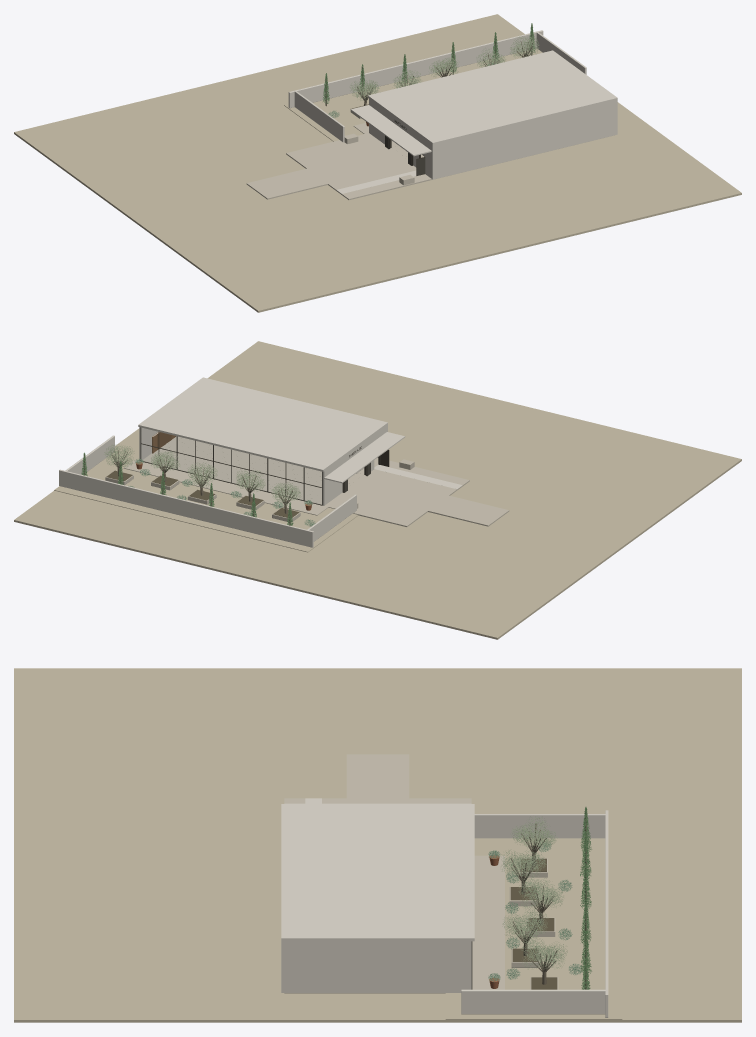
File: pavilion.glb
3 views of the same model, one above another, from view 1: azimuth 30°, elevation 25°; view 2: azimuth 150°, elevation 25°; view 3: azimuth 270°, elevation 25° (orthographic). The views are drawn at different scales.
Parts seen in each view (by area): view 1: SITE_GROUND, ROOM_CEILING, NORTH_SOLID_WALL, FORECOURT_14x18, SPANISH_LIME_BOUNDARY, EXTERIOR_GROUND, ROAD_CONNECTION, ENTRANCE_CANOPY, GARDEN_WEST_BOUNDARY, GARDEN_EAST_BOUNDARY; view 2: SITE_GROUND, ROOM_CEILING, ROOM_FLOOR_30x18, EXTERIOR_GROUND, FORECOURT_14x18, SPANISH_LIME_BOUNDARY, TERRACE, ROAD_CONNECTION, ENTRANCE_CANOPY, GARDEN_WEST_BOUNDARY, GARDEN_EAST_BOUNDARY, WEST_WALL.002 (+2 smaller); view 3: SITE_GROUND, ROOM_CEILING, EXTERIOR_GROUND, EAST_SOLID_WALL, TERRACE, GARDEN_EAST_BOUNDARY, GARDEN_WEST_BOUNDARY, ROAD_CONNECTION, FORECOURT_14x18, OLIVE_CROWN_3, OLIVE_CROWN_2, OLIVE_CROWN_1 (+3 smaller).
Boxes of the visible parts, bbox=[...] form: SITE_GROUND: bbox=[14, 14, 741, 312]; ROOM_CEILING: bbox=[368, 50, 617, 144]; NORTH_SOLID_WALL: bbox=[431, 100, 617, 179]; FORECOURT_14x18: bbox=[286, 133, 432, 199]; SPANISH_LIME_BOUNDARY: bbox=[288, 30, 543, 108]; EXTERIOR_GROUND: bbox=[284, 48, 542, 141]; ROAD_CONNECTION: bbox=[246, 168, 327, 199]; ENTRANCE_CANOPY: bbox=[350, 105, 431, 156]; GARDEN_WEST_BOUNDARY: bbox=[294, 91, 344, 142]; GARDEN_EAST_BOUNDARY: bbox=[536, 32, 586, 74]; SITE_GROUND: bbox=[14, 341, 741, 639]; ROOM_CEILING: bbox=[138, 377, 387, 471]; ROOM_FLOOR_30x18: bbox=[142, 436, 378, 504]; EXTERIOR_GROUND: bbox=[54, 447, 358, 552]; FORECOURT_14x18: bbox=[324, 460, 469, 526]; SPANISH_LIME_BOUNDARY: bbox=[59, 469, 313, 547]; TERRACE: bbox=[123, 460, 328, 515]; ROAD_CONNECTION: bbox=[428, 495, 509, 526]; ENTRANCE_CANOPY: bbox=[324, 432, 405, 483]; GARDEN_WEST_BOUNDARY: bbox=[307, 494, 356, 541]; GARDEN_EAST_BOUNDARY: bbox=[65, 435, 114, 474]; WEST_WALL.002: bbox=[322, 456, 344, 505]; SITE_GROUND: bbox=[14, 668, 741, 1022]; ROOM_CEILING: bbox=[281, 804, 474, 941]; EXTERIOR_GROUND: bbox=[445, 834, 622, 1021]; EAST_SOLID_WALL: bbox=[284, 941, 471, 992]; TERRACE: bbox=[472, 855, 504, 989]; GARDEN_EAST_BOUNDARY: bbox=[461, 989, 605, 1014]; GARDEN_WEST_BOUNDARY: bbox=[474, 814, 605, 838]; ROAD_CONNECTION: bbox=[346, 754, 409, 798]; FORECOURT_14x18: bbox=[284, 798, 471, 803]; OLIVE_CROWN_3: bbox=[502, 909, 548, 944]; OLIVE_CROWN_2: bbox=[518, 878, 563, 910]; OLIVE_CROWN_1: bbox=[501, 850, 546, 882].
Bounding box in the file's own units: 80 × 6.28 × 70.
